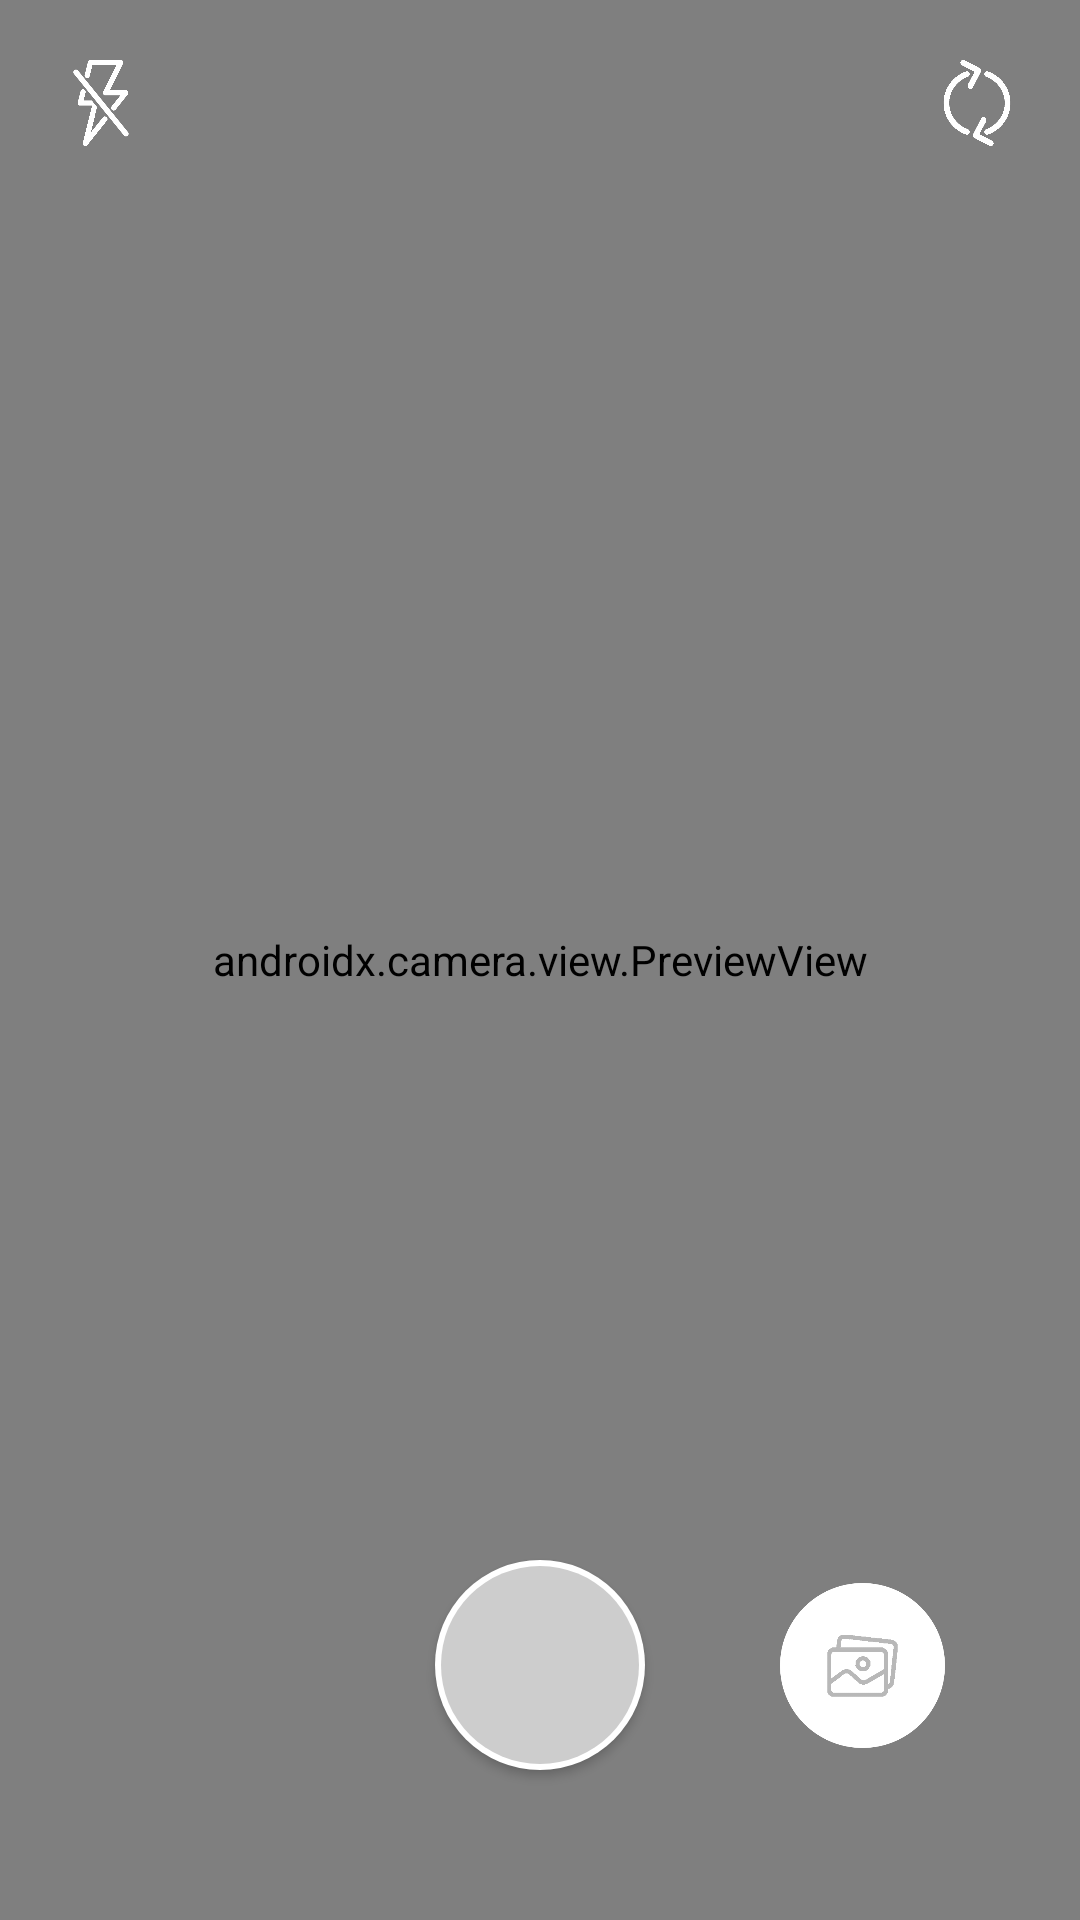

Screen size 1080×1920. Icon name, then its center in pixels as (x=x, y=y):
flash: (x=101, y=103)
gallery: (x=862, y=1665)
swap: (x=977, y=103)
